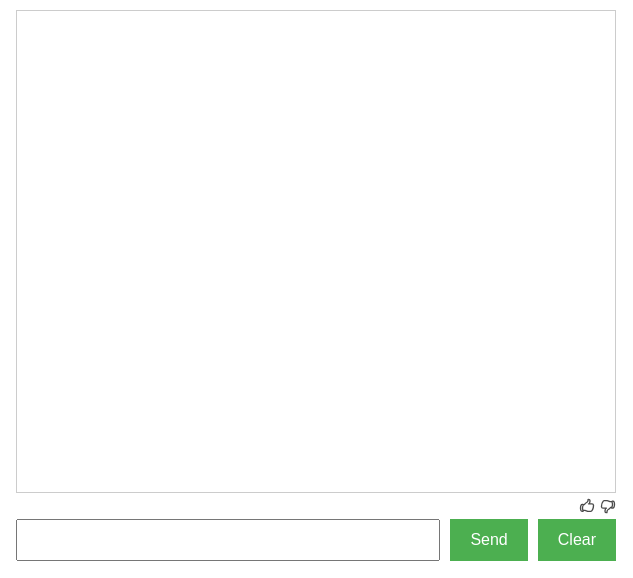
Test case: Chat Component Unit Tests › Simple question and response
// Type a question and submit
Step 1. Type "What is the capital of France?" into the field with test id "input-container" → (228, 540), box top-left (16, 519), bottom-right (440, 561)
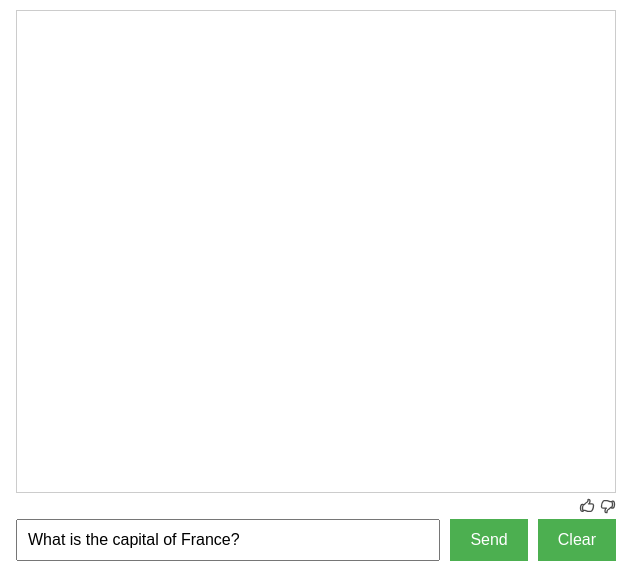
Step 2. Click the button "Send" → click(489, 540), box top-left (450, 519), bottom-right (528, 561)
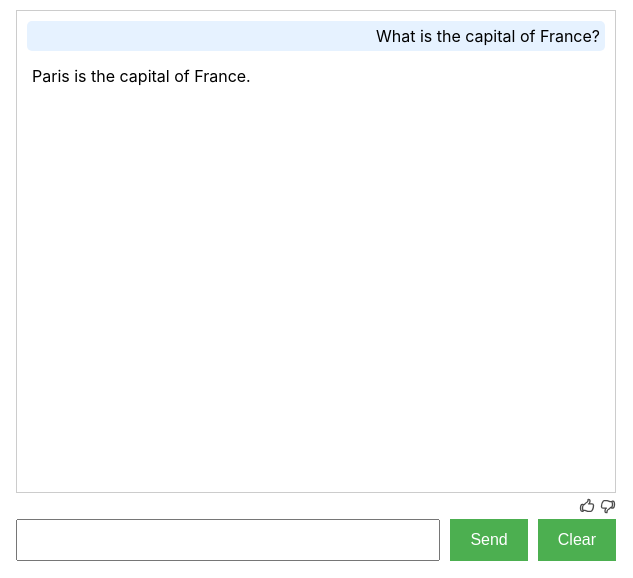
Now the text "What is the capital of France?" is shown, box top-left (27, 21), bottom-right (605, 51)
Now the text with test id "message-0" reads "What is the capital of France?", box top-left (376, 26), bottom-right (600, 46)
Now the text with test id "message-1" reads "Paris is the capital of France.", box top-left (32, 66), bottom-right (251, 86)
